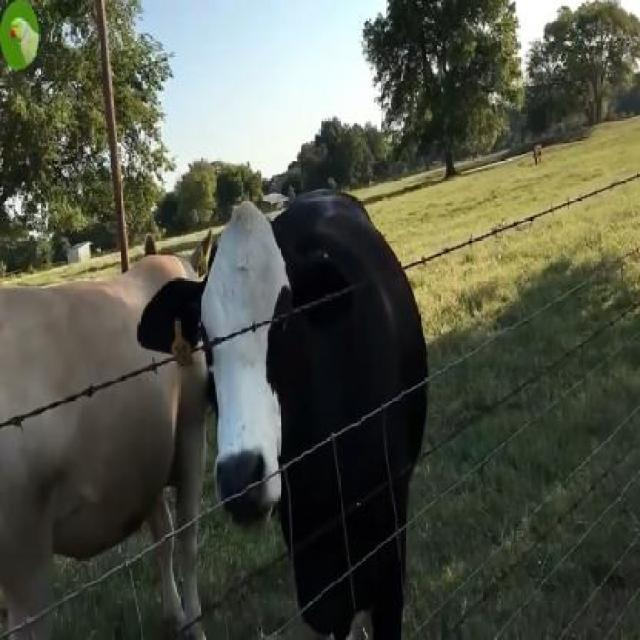Cow: (137, 196, 426, 638)
